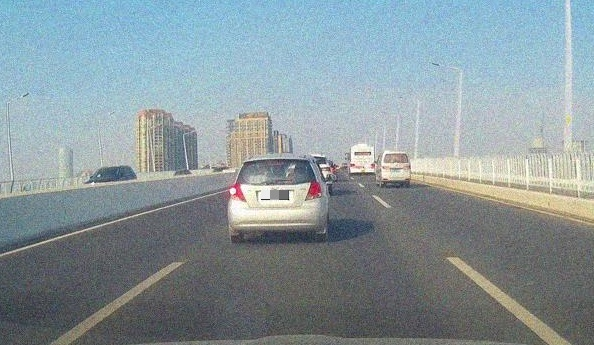L_light: (229, 183, 247, 202), (382, 166, 389, 169), (350, 164, 355, 167)
R_light: (304, 180, 322, 200), (403, 166, 410, 169), (371, 164, 375, 167)
T_light: (268, 160, 283, 163), (360, 147, 365, 149), (394, 154, 399, 155)
day-left: (228, 153, 328, 242)
day-no: (381, 151, 411, 187), (350, 144, 375, 176)
plate_1: (261, 190, 289, 200)
